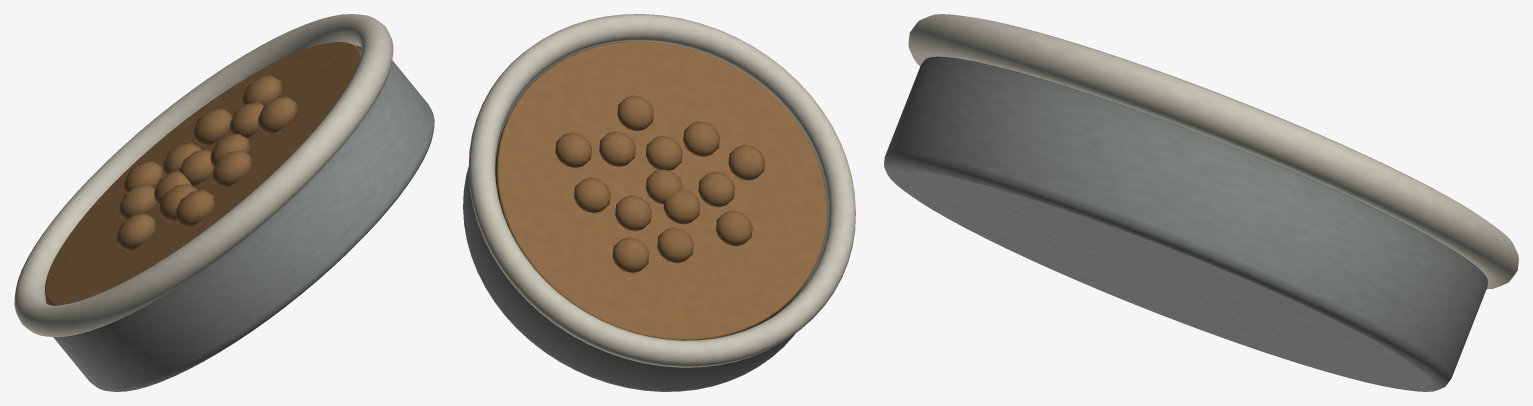
3 views of the same model, side by side, from view 1: azimuth 30°, elevation 25°; view 2: azimuth 150°, elevation 25°; view 3: azimuth 270°, elevation 25° (orthographic). The views are drawn at different scales.
Visible parts, largest first — view 1: Thick-walled sample vessel; view 2: Thick-walled sample vessel; view 3: Thick-walled sample vessel.
Boxes of the visible parts, bbox=[...] form: Thick-walled sample vessel: bbox=[14, 14, 434, 391]; Thick-walled sample vessel: bbox=[463, 14, 855, 391]; Thick-walled sample vessel: bbox=[884, 14, 1518, 391].
Size of the model in its own units: 0.9707 by 0.7871 by 1.
Materials: 1 (1 with a texture image).
